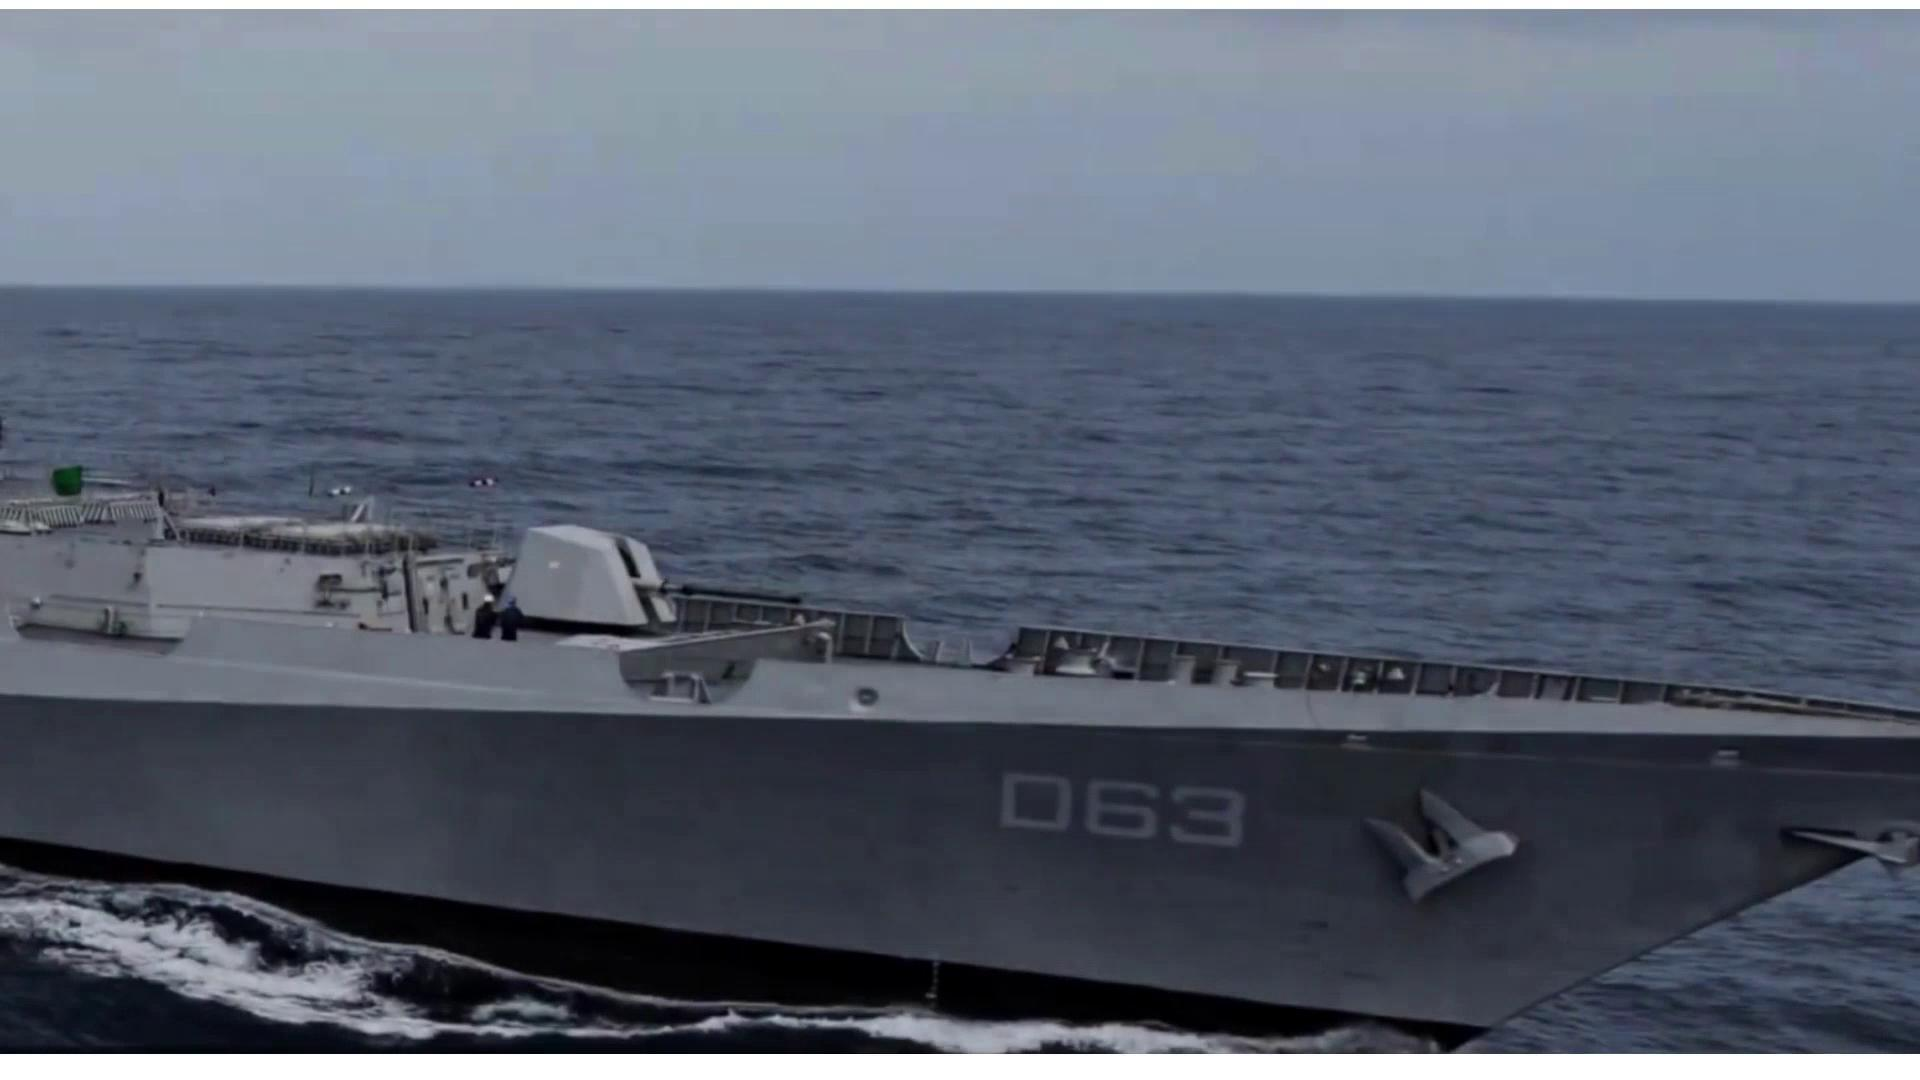OCR: (981, 768, 1254, 866)
